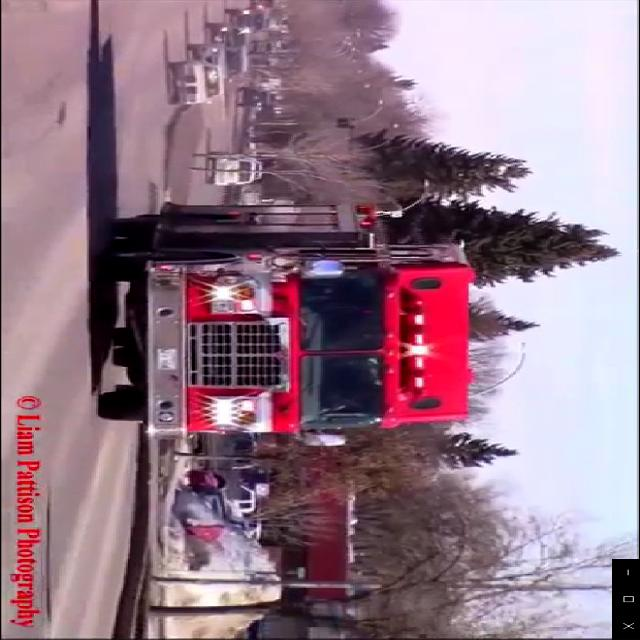emergency: (78, 196, 478, 450)
